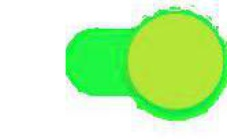Switch: (1, 1, 226, 139)
